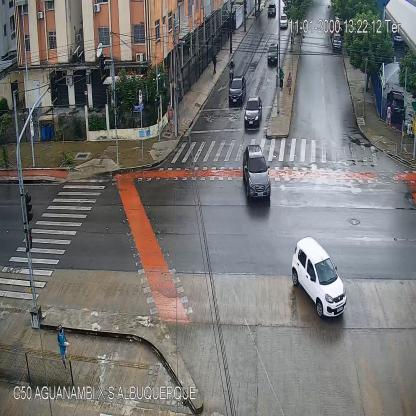car: (292, 237, 346, 318), (242, 146, 271, 202), (244, 97, 263, 128), (230, 76, 244, 103), (268, 43, 280, 64), (268, 2, 276, 17), (280, 14, 288, 28), (333, 35, 340, 49)
motorbike: (229, 57, 234, 78)
person: (58, 324, 72, 374), (385, 102, 392, 130), (286, 72, 292, 94), (212, 50, 216, 74)
